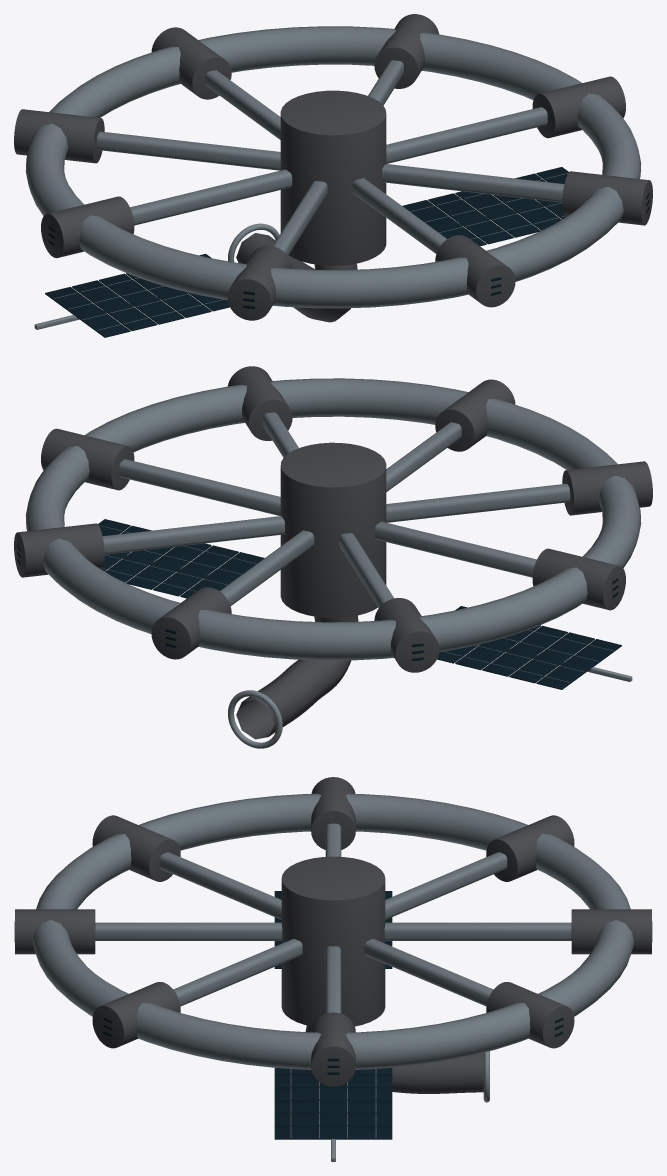
Rendered from orbital-station.glb.
3 renders of one model, top to bottom at view 1: azimuth 30°, elevation 25°; view 2: azimuth 150°, elevation 25°; view 3: azimuth 270°, elevation 25°, orthographic.
Visible parts, largest first — view 1: HabitatRing, CentralPressureHub, RadialPressureTunnel.001, RadialPressureTunnel.005, RadialPressureTunnel.006, RadialPressureTunnel.002, HabitatModule.002, HabitatModule.001, HabitatModule.004, HabitatModule.005, HabitatModule.006, HabitatModule.003 (+16 smaller); view 2: HabitatRing, CentralPressureHub, DockAccessTunnel, RadialPressureTunnel.003, RadialPressureTunnel.007, RadialPressureTunnel.006, RadialPressureTunnel.002, HabitatModule.002, HabitatModule.003, HabitatModule, HabitatModule.007, HabitatModule.006 (+16 smaller); view 3: HabitatRing, CentralPressureHub, RadialPressureTunnel, RadialPressureTunnel.004, DockAccessTunnel, HabitatModule.005, HabitatModule.007, HabitatModule.006, HabitatModule, HabitatModule.004, HabitatModule.001, HabitatModule.003 (+12 smaller).
Part boxes in pixels (box(x1,y1,x2,y2)): HabitatRing: box(25, 26, 641, 308); CentralPressureHub: box(280, 90, 386, 265); RadialPressureTunnel.001: box(96, 131, 280, 170); RadialPressureTunnel.005: box(382, 164, 564, 202); RadialPressureTunnel.006: box(386, 107, 547, 163); RadialPressureTunnel.002: box(130, 169, 292, 225); HabitatModule.002: box(41, 196, 134, 258); HabitatModule.001: box(14, 109, 104, 163); HabitatModule.004: box(435, 235, 515, 307); HabitatModule.005: box(562, 171, 652, 225); HabitatModule.006: box(532, 76, 625, 138); HabitatModule.003: box(227, 245, 292, 320); HabitatRing: box(25, 378, 641, 660); CentralPressureHub: box(280, 442, 386, 617); DockAccessTunnel: box(236, 615, 358, 739); RadialPressureTunnel.003: box(386, 483, 570, 522); RadialPressureTunnel.007: box(102, 516, 284, 554); RadialPressureTunnel.006: box(119, 459, 280, 515); RadialPressureTunnel.002: box(374, 521, 536, 577); HabitatModule.002: box(532, 548, 625, 610); HabitatModule.003: box(562, 461, 652, 515); HabitatModule: box(151, 587, 231, 659); HabitatModule.007: box(14, 523, 104, 577); HabitatModule.006: box(41, 428, 134, 490); HabitatRing: box(32, 793, 634, 1069); CentralPressureHub: box(281, 856, 385, 1026); RadialPressureTunnel: box(384, 922, 571, 940); RadialPressureTunnel.004: box(95, 922, 282, 940); DockAccessTunnel: box(305, 1025, 483, 1093); HabitatModule.005: box(92, 982, 180, 1048); HabitatModule.007: box(486, 982, 574, 1048); HabitatModule.006: box(311, 1012, 355, 1086); HabitatModule: box(571, 909, 651, 954); HabitatModule.004: box(15, 909, 95, 954); HabitatModule.001: box(486, 815, 574, 881); HabitatModule.003: box(92, 815, 180, 881).
Bounding box in the file's own units: 28.6 × 10.35 × 27.08.
